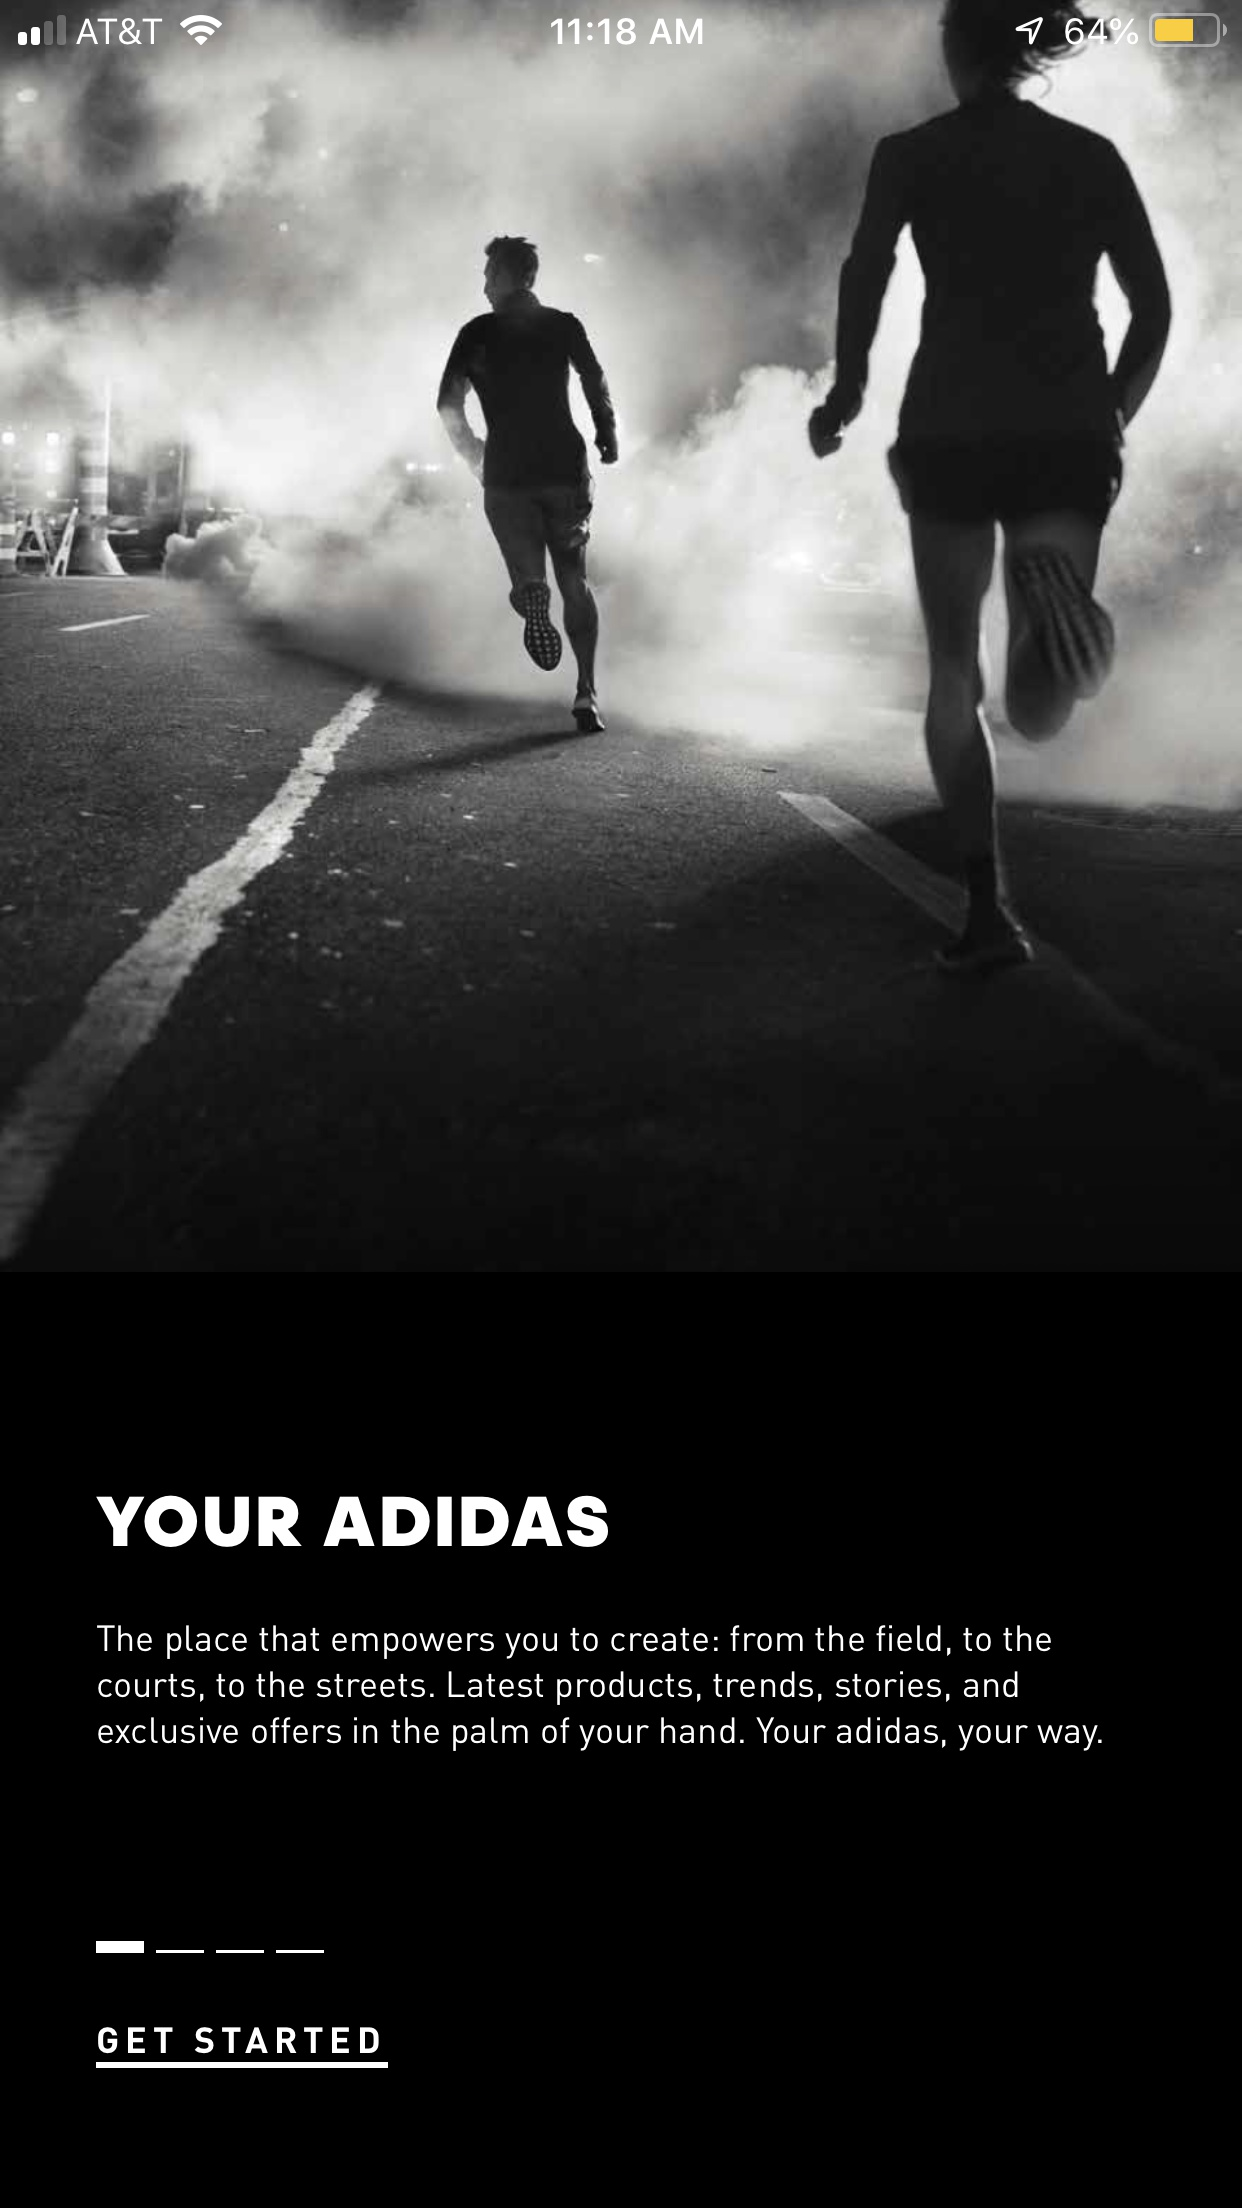Image: (2, 2, 1242, 1272)
PageIndicator: (97, 1940, 326, 1955)
Text: (97, 1624, 1102, 1752), (96, 1494, 610, 1548), (96, 2026, 390, 2068)
UpperTaskBar: (2, 2, 1242, 49)
